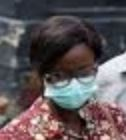with_facemask: (48, 77, 98, 113)
